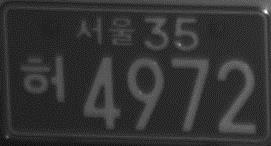2: (214, 57, 258, 135)
3: (141, 14, 170, 52)
4: (81, 54, 122, 131)
5: (173, 14, 199, 53)
7: (166, 54, 212, 134)
9: (124, 56, 166, 132)
서울_O: (74, 14, 137, 47)
허: (18, 53, 66, 104)
